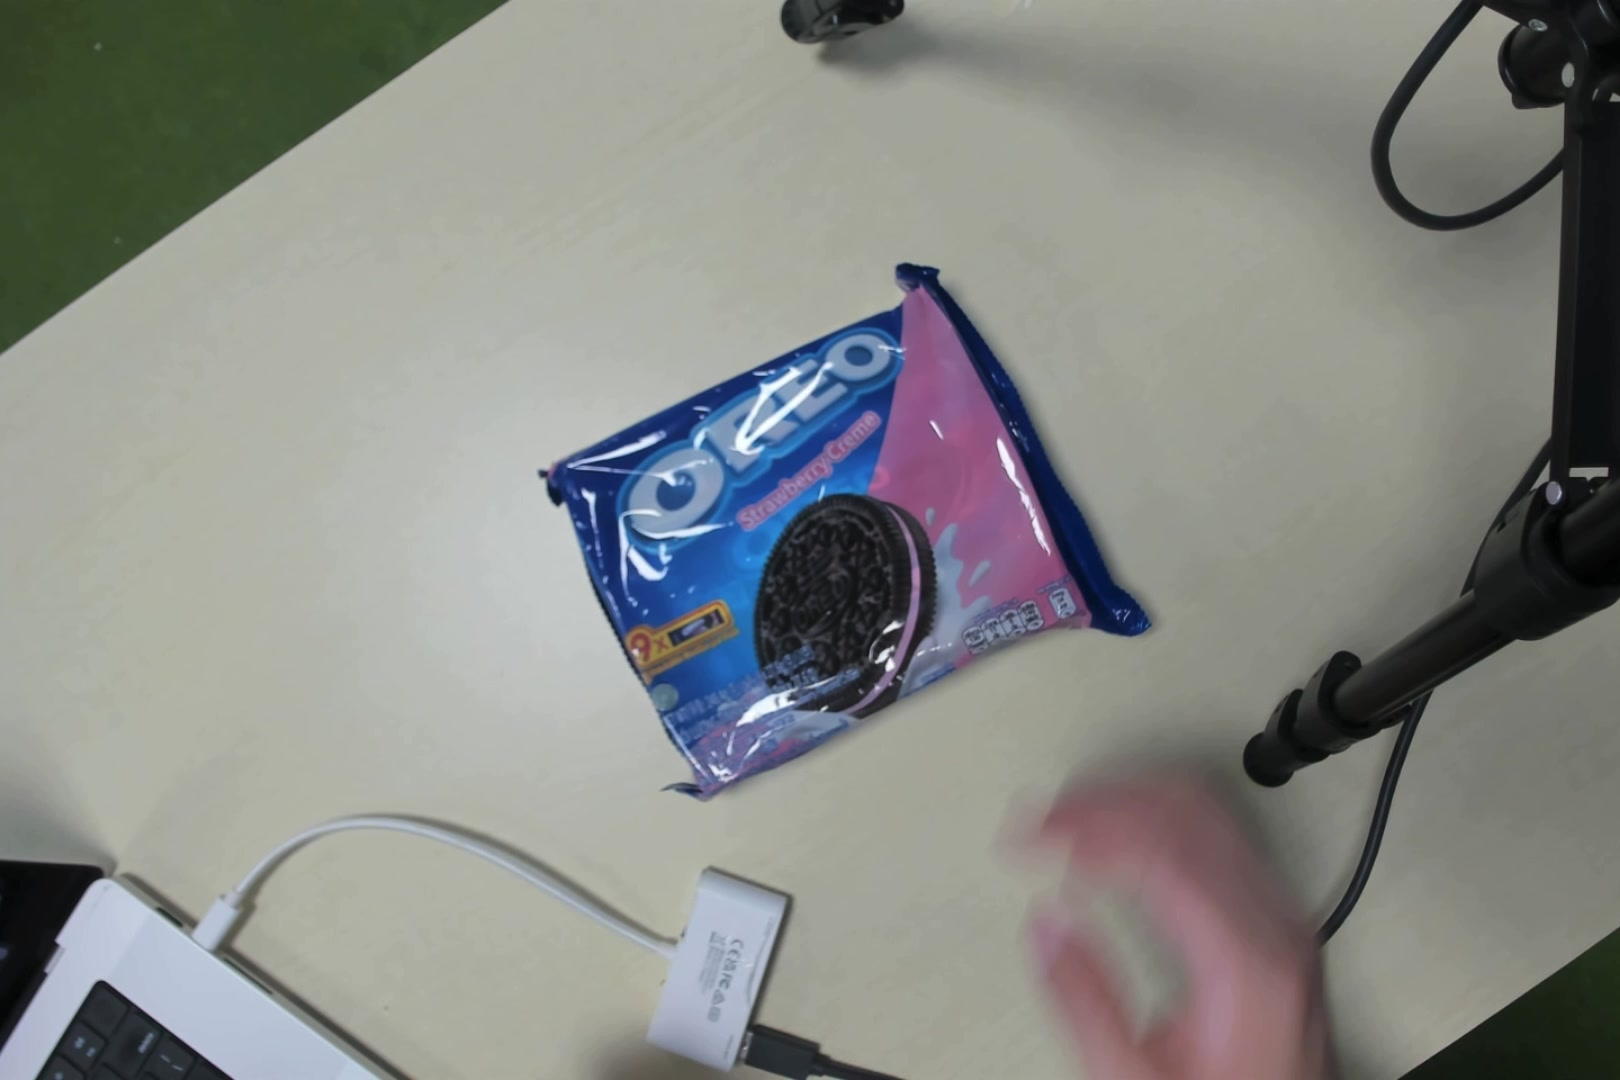SweetsChocolatesOthers_200-299g_Halal_NonHealthy: (586, 324, 1060, 744)
